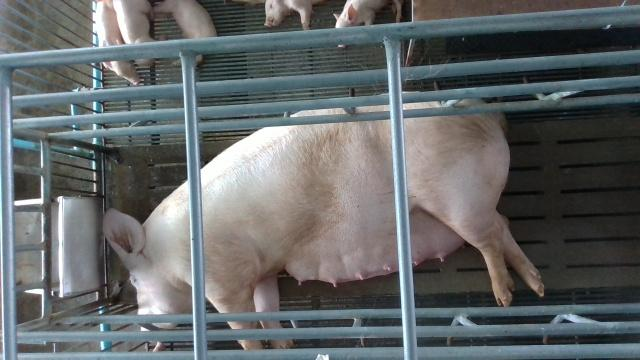piglet: (153, 0, 217, 65), (96, 0, 140, 86), (334, 0, 404, 47), (112, 0, 158, 66), (264, 0, 327, 31)
sow-sleep-lactate: (102, 98, 543, 348)
